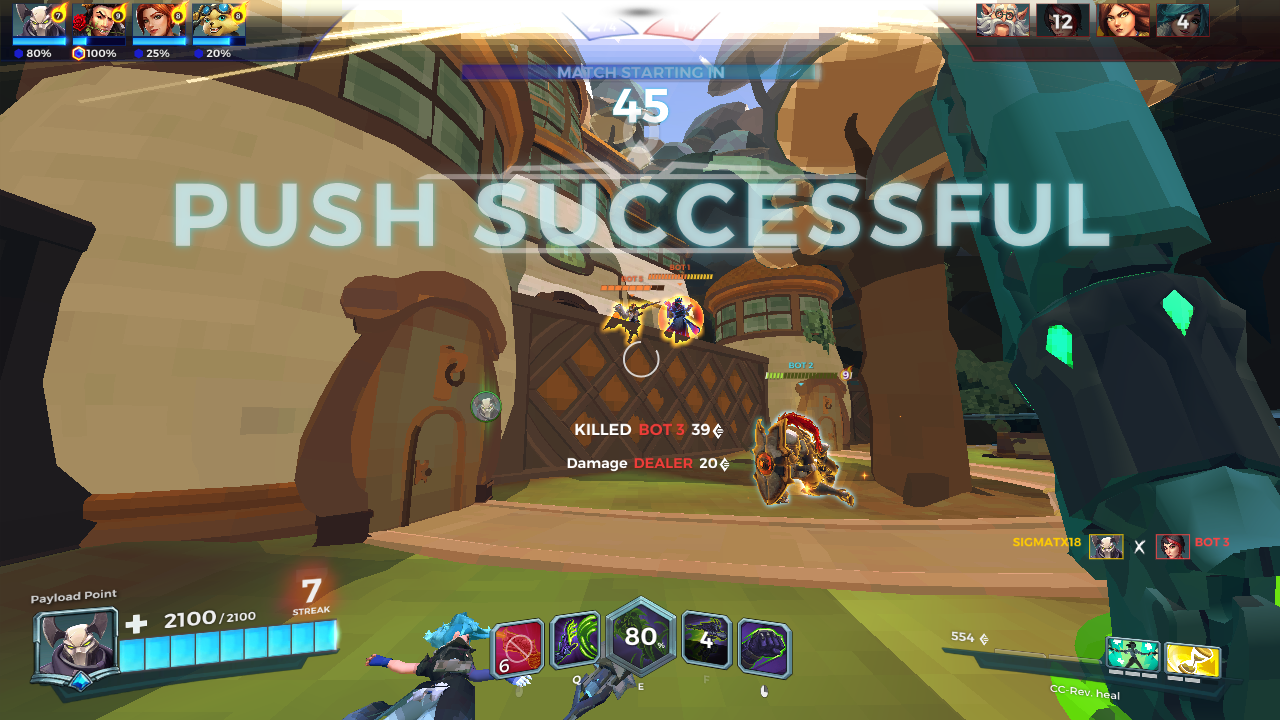model: (594, 294, 649, 352), (664, 293, 696, 345)
